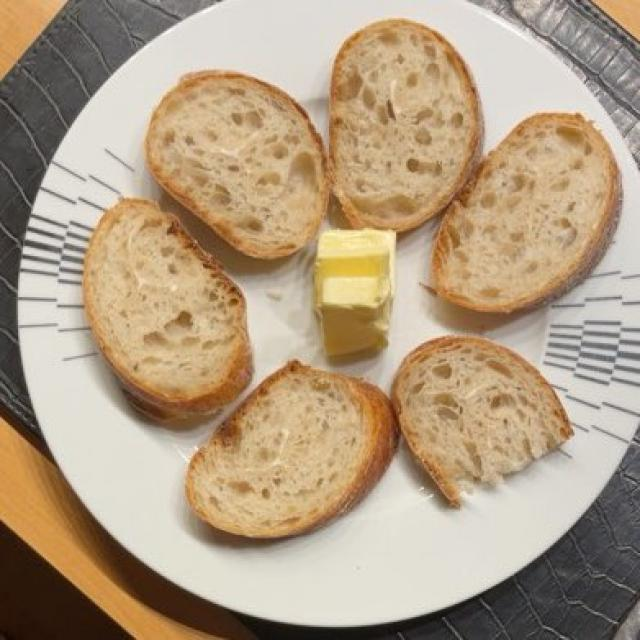bread-white: (92, 33, 615, 545)
butter: (310, 232, 399, 350)
